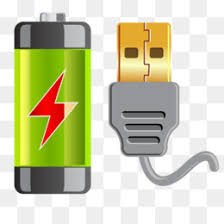charging sign: (9, 1, 105, 202)
